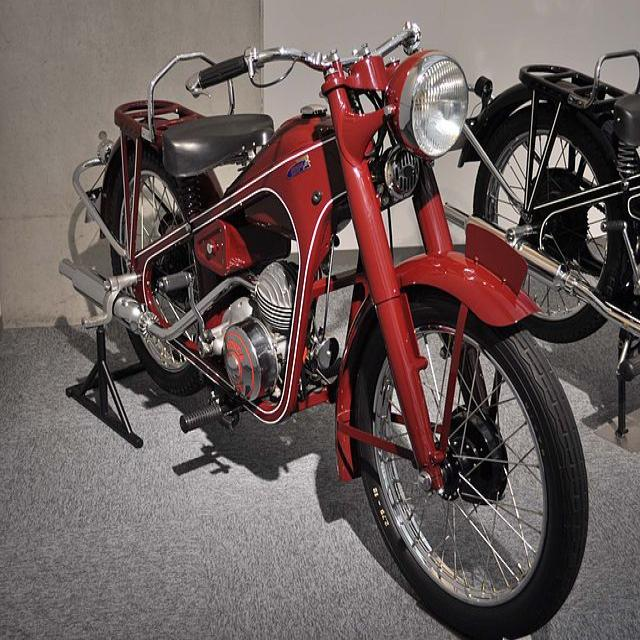Motorcycle: (59, 24, 589, 637)
